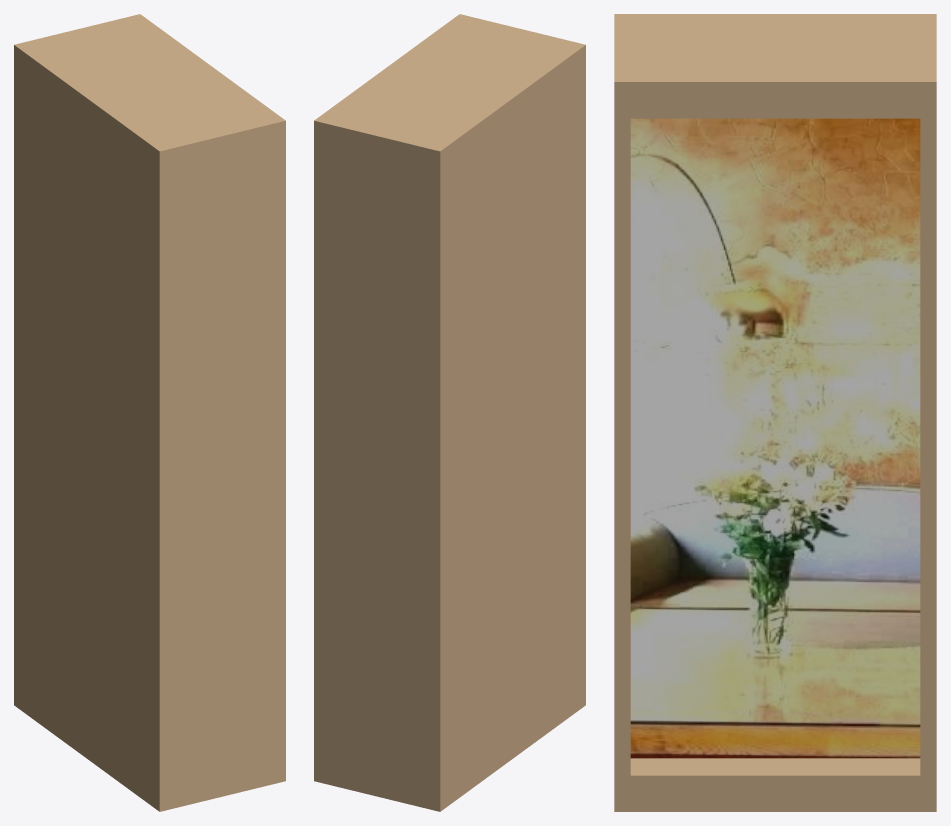
File: window.obj
The picture shows the model from 3 angles, left to right: view 1: azimuth 30°, elevation 25°; view 2: azimuth 150°, elevation 25°; view 3: azimuth 270°, elevation 25°; orthographic projection. The views are drawn at different scales.
Parts seen in each view (by area): view 1: Cube_Cube.001; view 2: Cube_Cube.001; view 3: Cube_Cube.001.
Boxes of the visible parts, x1,y1,x2,y2 form: Cube_Cube.001: (14, 14, 285, 811); Cube_Cube.001: (314, 14, 585, 811); Cube_Cube.001: (614, 14, 936, 811).
Bounding box in the file's own units: 2 × 10 × 4.
